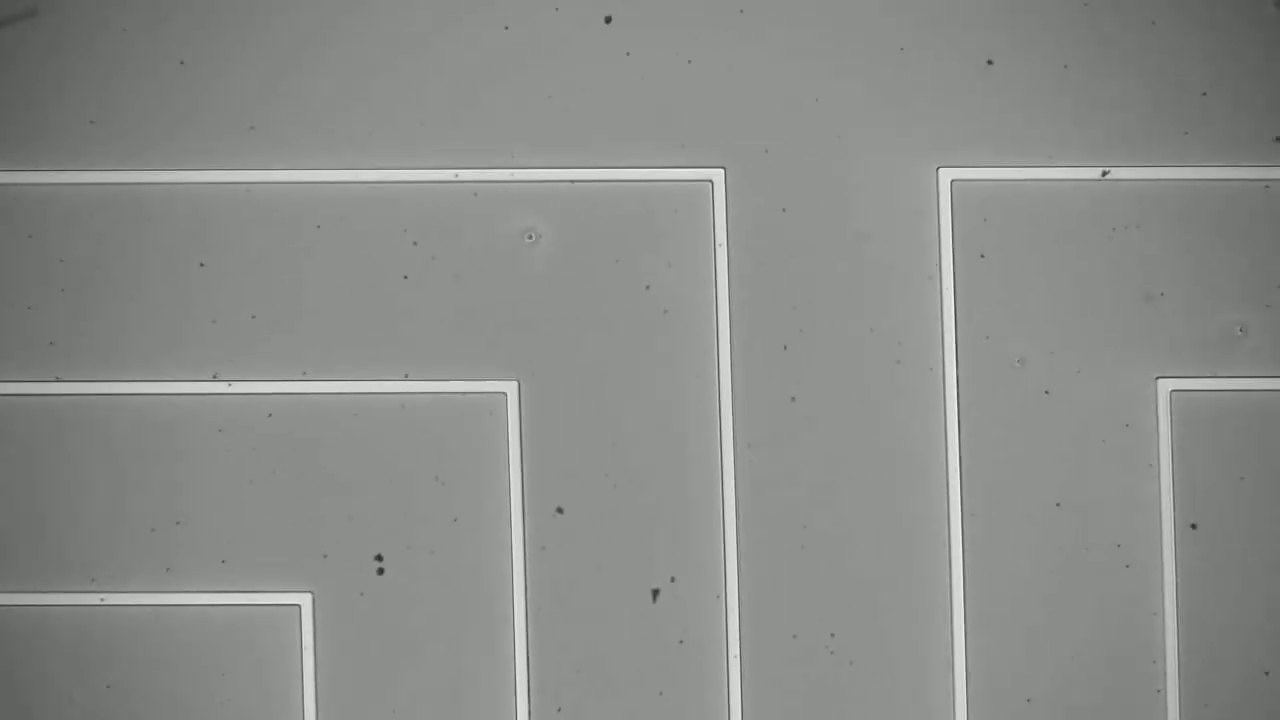stains_enbedded: (1091, 164, 1118, 183)
